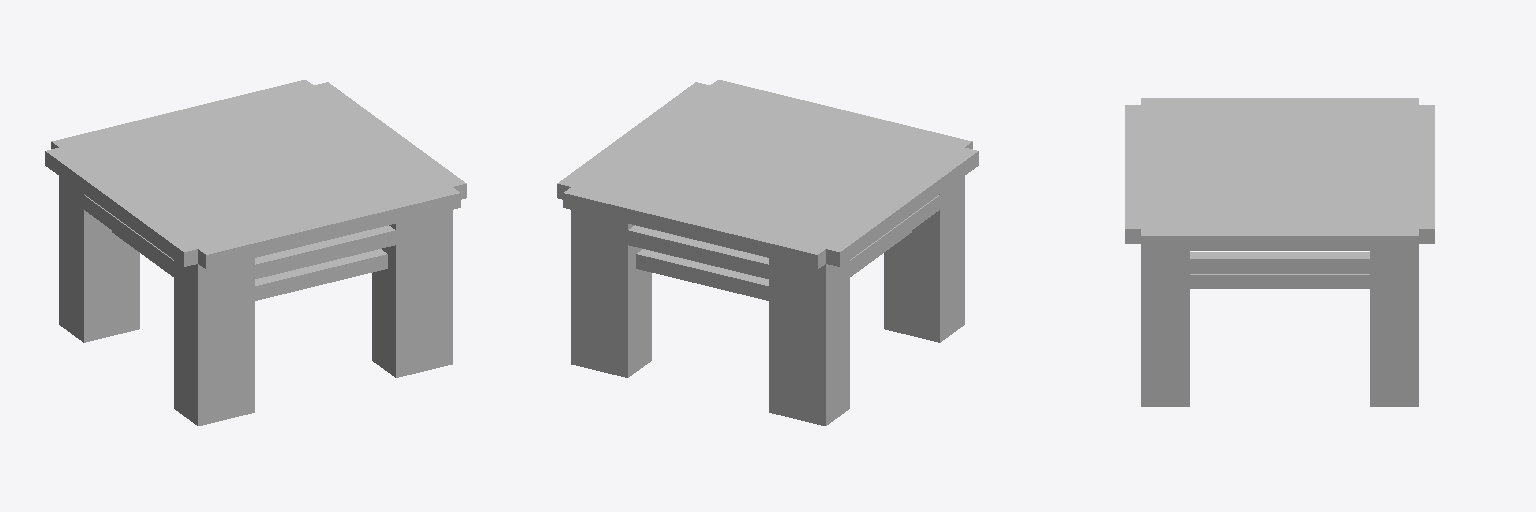
Rendered from table.obj.
3 views of the same model, side by side, from view 1: azimuth 30°, elevation 25°; view 2: azimuth 150°, elevation 25°; view 3: azimuth 270°, elevation 25° (orthographic).
Visible parts, largest first — view 1: object 1; view 2: object 1; view 3: object 1.
Boxes of the visible parts, x1,y1,x2,y2 form: object 1: [45, 80, 466, 425]; object 1: [557, 80, 978, 425]; object 1: [1125, 98, 1434, 406].
Size of the model in its own units: 2 by 1.2 by 1.9.